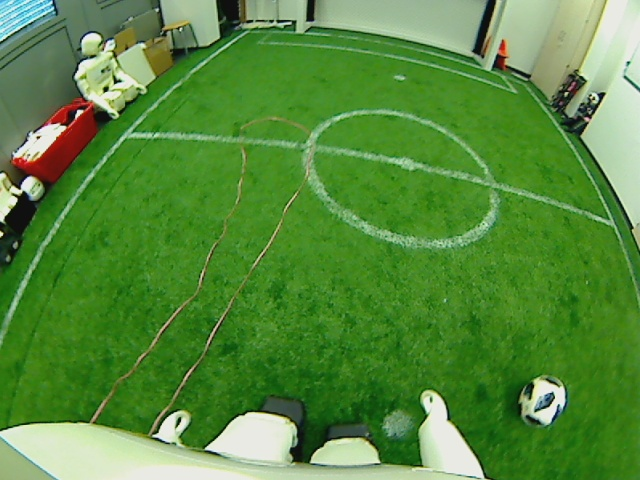ball: (513, 375, 571, 427)
